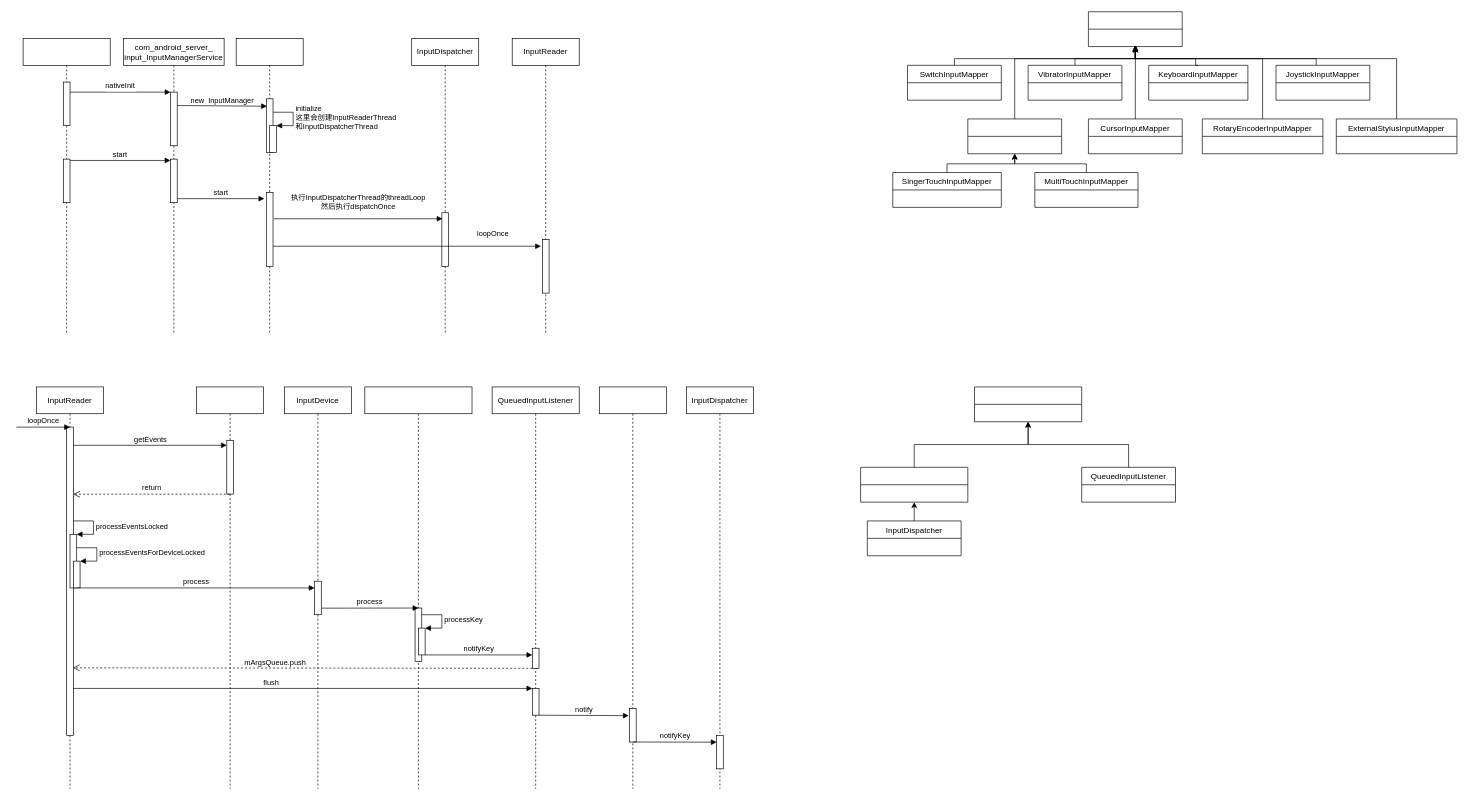
Some shapes in this 1469 by 801 pixel diagram are drawn without their labels. The shapes that lost their labels are listed below. From the top down, each one's box as (x1, y1, x2, y2) in pixels, then its label:
(1088, 11, 1182, 47): InputMapper
(967, 118, 1062, 154): TouchInputMapper
(22, 38, 110, 333): InputManagerService
(236, 38, 303, 333): InputManager
(974, 386, 1082, 422): InputListenerInterface
(860, 467, 968, 502): InputDispatcherInterface
(196, 386, 264, 789): EventHub
(364, 386, 472, 789): InputMapper (如KeyboardInputMapper)
(599, 386, 666, 789): NotifyKeyArgs
